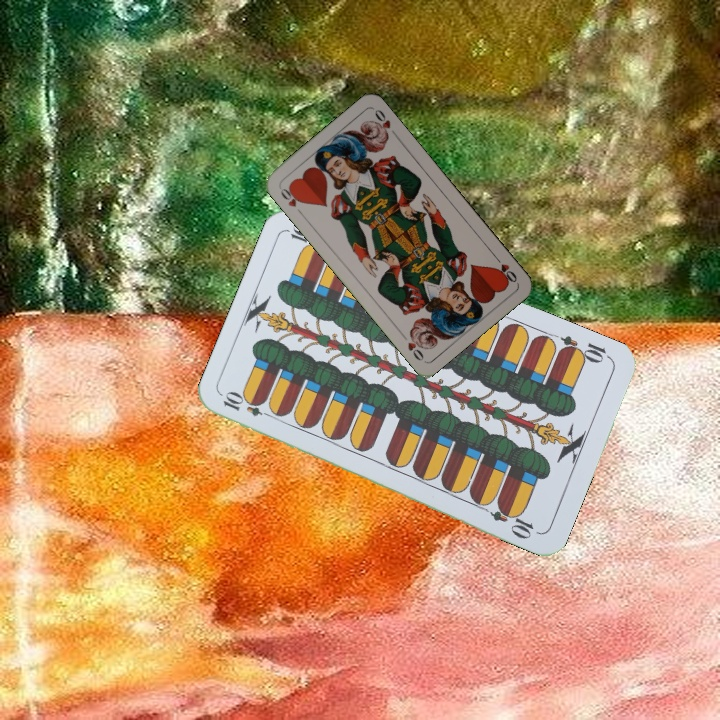E10: (555, 331, 614, 366), (219, 390, 277, 421)
HO: (276, 182, 306, 218), (490, 251, 520, 286)
